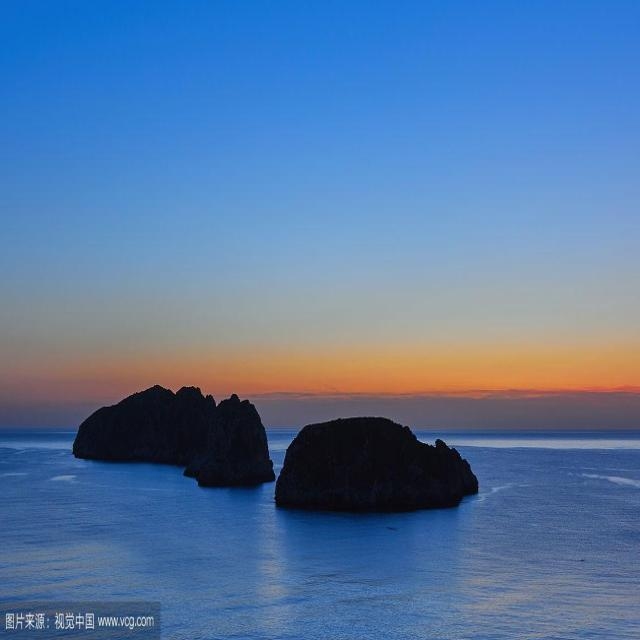island: (68, 370, 484, 522)
